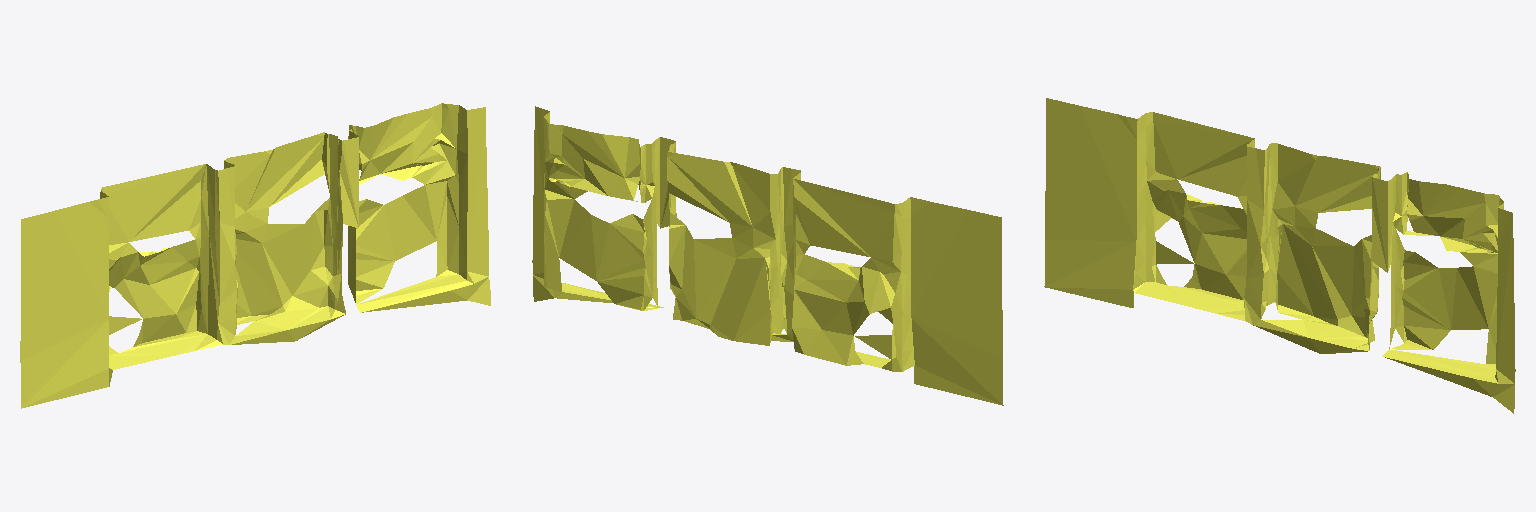
URDF robot description (env.urdf):
<?xml version="0.0" ?>
<robot name="env.urdf">
  <link name="baseLink">
    <contact>
      <lateral_friction value="1.0"/>
      <rolling_friction value="0.0"/>
      <contact_cfm value="0.0"/>
      <contact_erp value="1.0"/>
    </contact>
    <inertial>
      <origin rpy="0 0 0" xyz="0.0 0.02 0.0"/>
       <mass value="0"/>
       <inertia ixx="1" ixy="0" ixz="0" iyy="1" iyz="0" izz="1"/>
    </inertial>
    <visual>
      <origin rpy="0 0 0" xyz="0 0 0"/>
      <geometry>
        <mesh filename="frwall3.obj" scale="1 1 1"/>
      </geometry>
       <material name="yellow">
        <color rgba="1 1 0.4 1"/>
      </material>
    </visual>
    <collision>
      <origin rpy="0 0 0" xyz="0 0 0"/>
      <geometry>
	 	<mesh filename="frwall3.obj" scale="1 1 1"/>
      </geometry>
    </collision>
  </link>
</robot>

--- Render facts (derived) ---
Views: 3 orthographic renders of the robot side by side, from view 1: azimuth 30°, elevation 25°; view 2: azimuth 150°, elevation 25°; view 3: azimuth 330°, elevation 25°.
Model env.urdf with 1 links and 0 joints (none), rooted at baseLink, posed every joint at zero.
Links seen in each view (by area): view 1: baseLink; view 2: baseLink; view 3: baseLink.
Boxes of the visible links, x1,y1,x2,y2 form: baseLink: (20, 103, 490, 408); baseLink: (532, 106, 1003, 405); baseLink: (1044, 98, 1515, 413).
Size in the robot's own frame: 3.67 by 0.29 by 1.49 metres.
1 mesh visuals loaded from 1 distinct referenced files (1 OBJ).